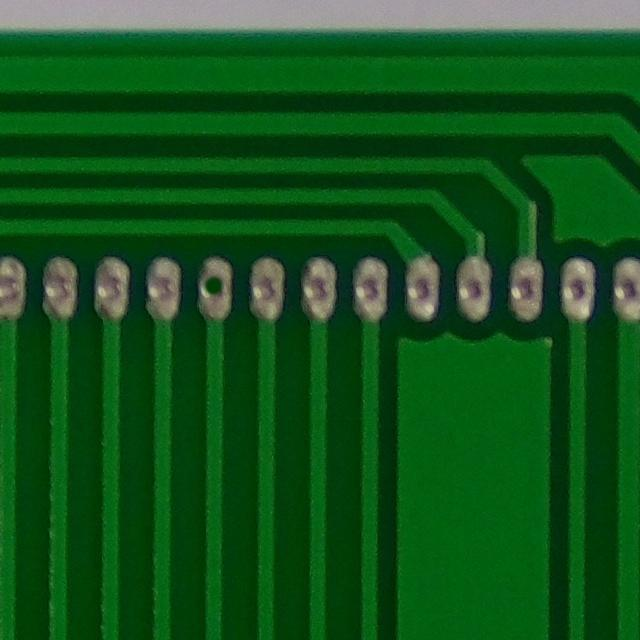missing_hole: (189, 257, 242, 321)
